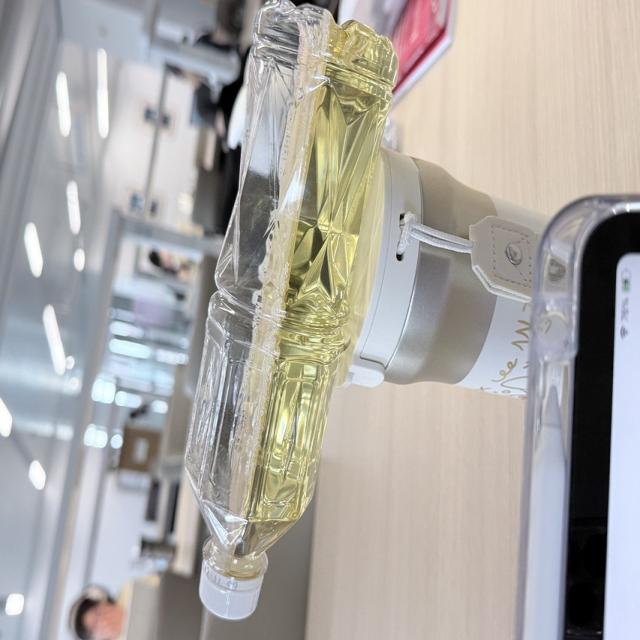medium: (186, 2, 394, 617)
